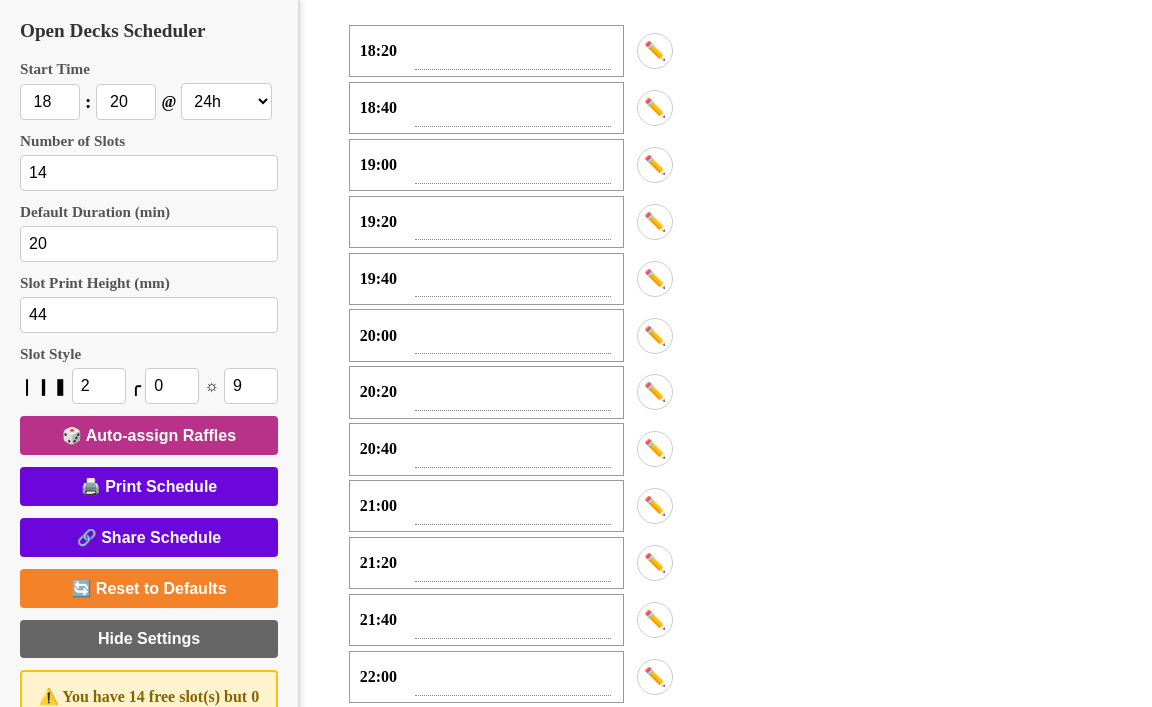
App Component › should hide sidebar when Hide Settings is clicked
What coordinates should you click on to do the following:
click the button "Hide Settings"
I would click on:
 (149, 639)
Its box is [20, 620, 278, 658].
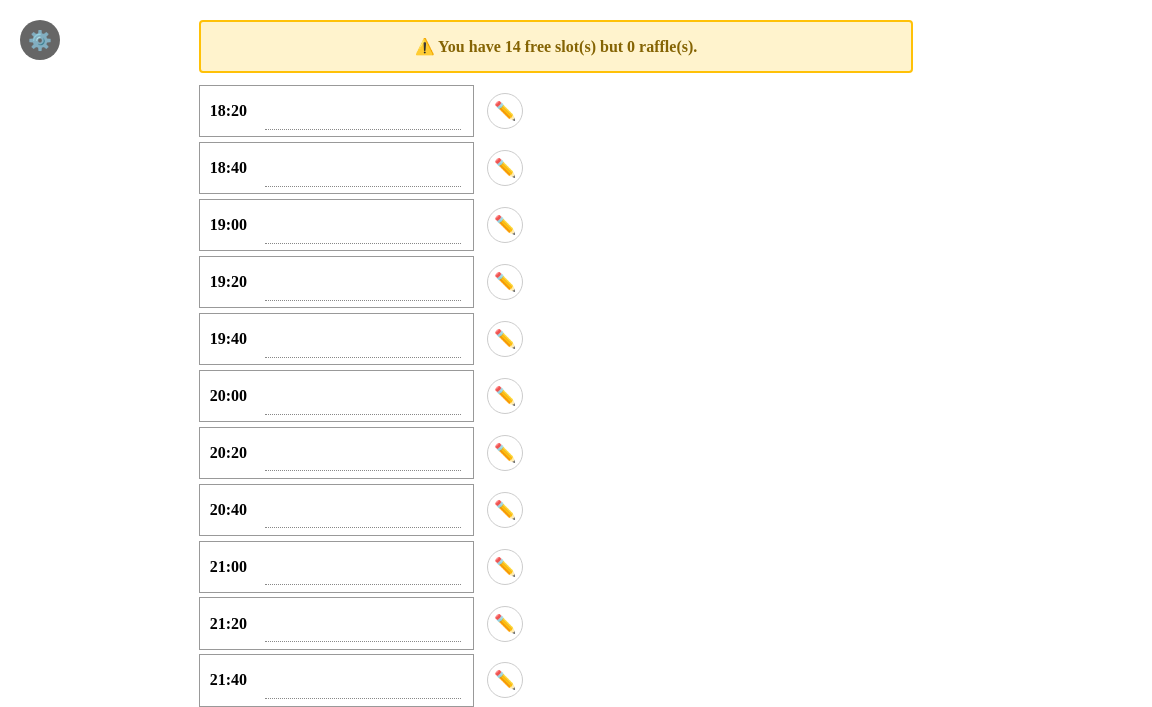
Expected: the heading "Open Decks Scheduler" is gone
Expected: the button named "Show settings" is shown, [20, 20, 60, 60]
